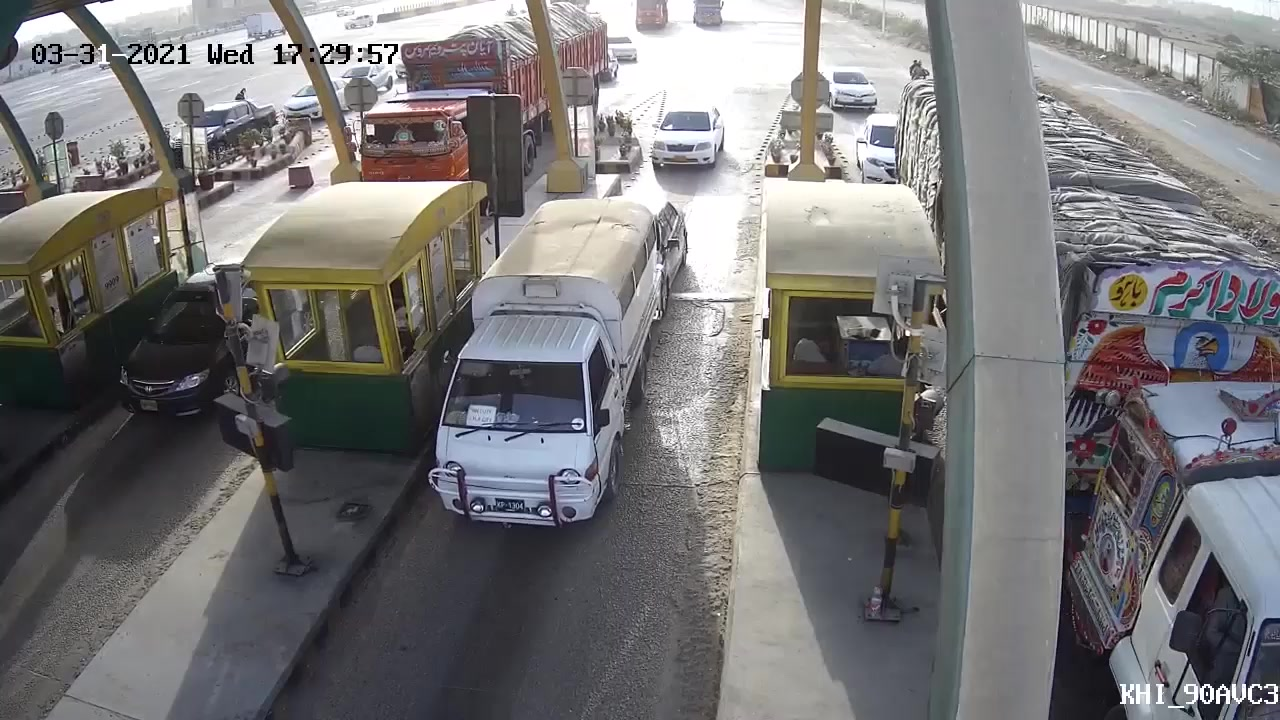F3: (430, 200, 661, 540)
